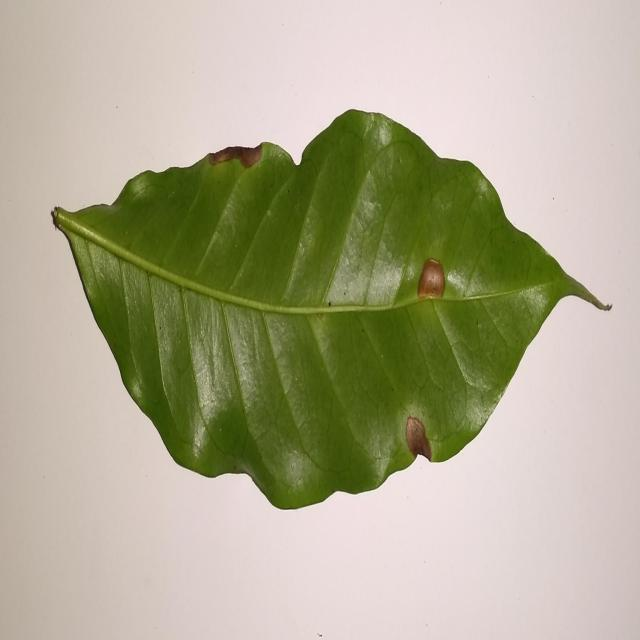phoma: (206, 143, 262, 168), (417, 259, 449, 300), (406, 416, 433, 464)
